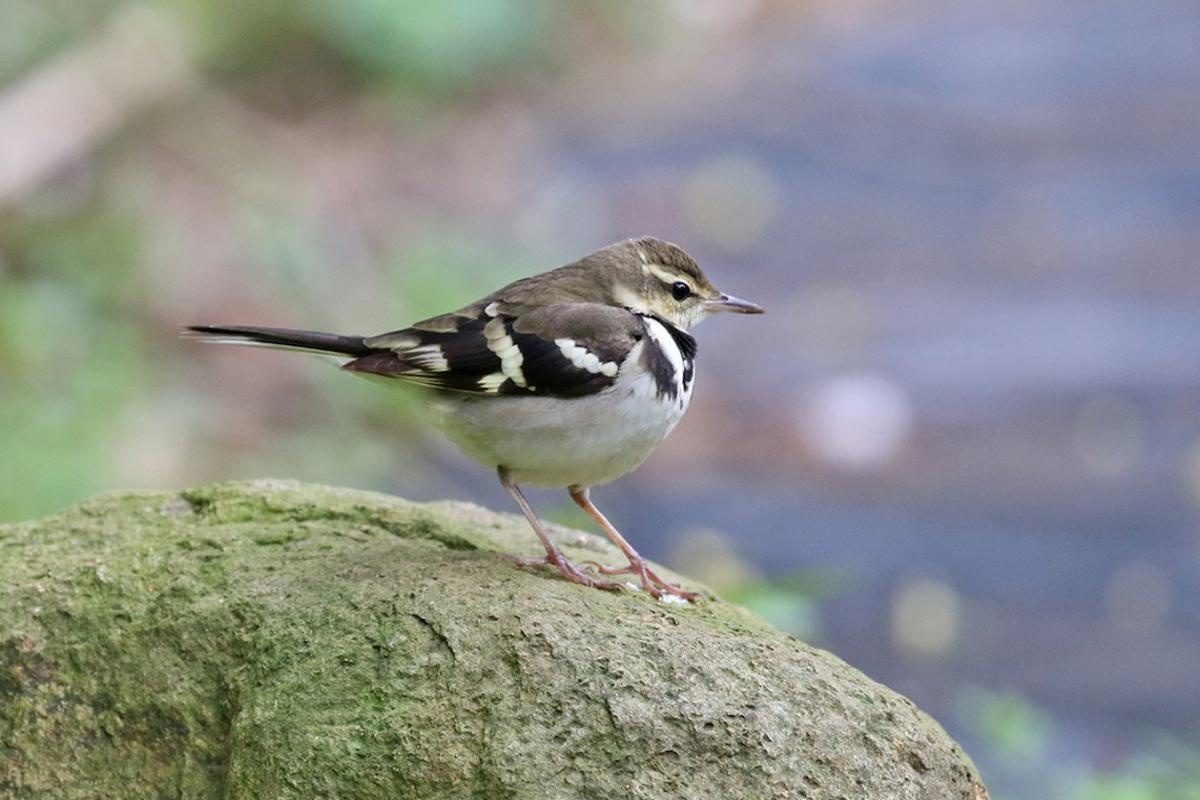wagtail: (188, 207, 819, 518)
